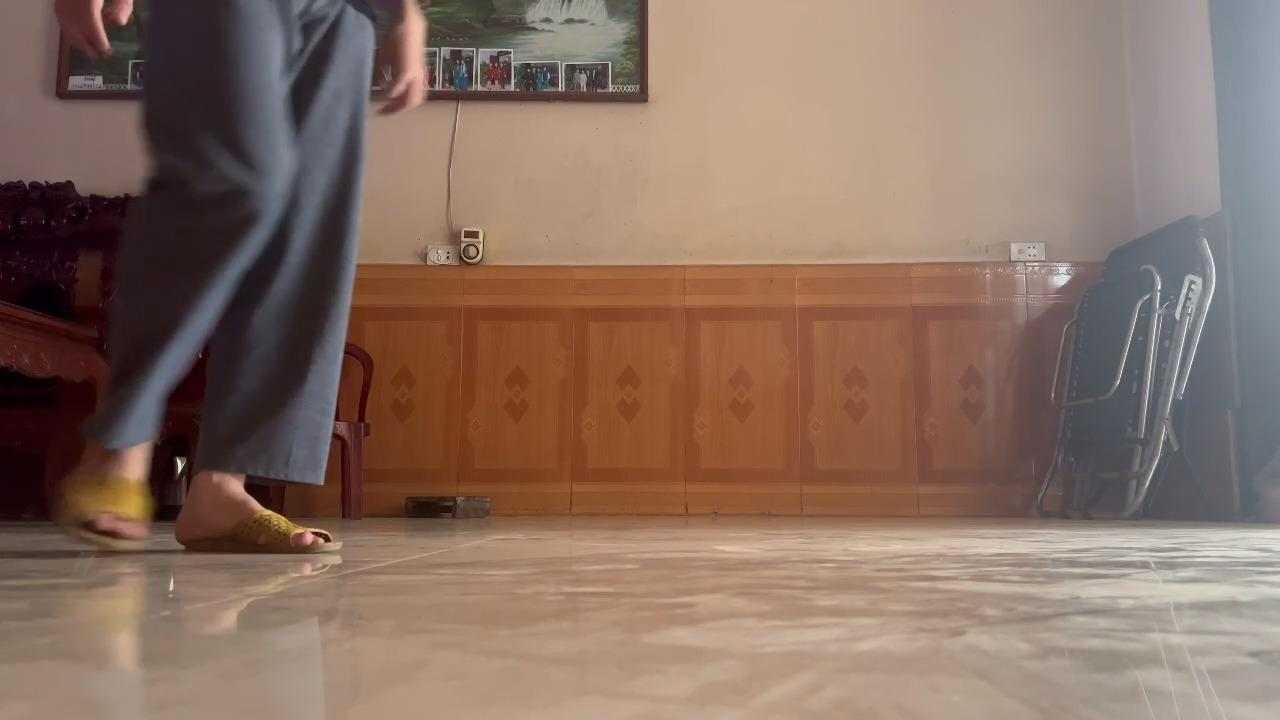no-boot: (172, 477, 352, 567), (55, 452, 160, 564)
